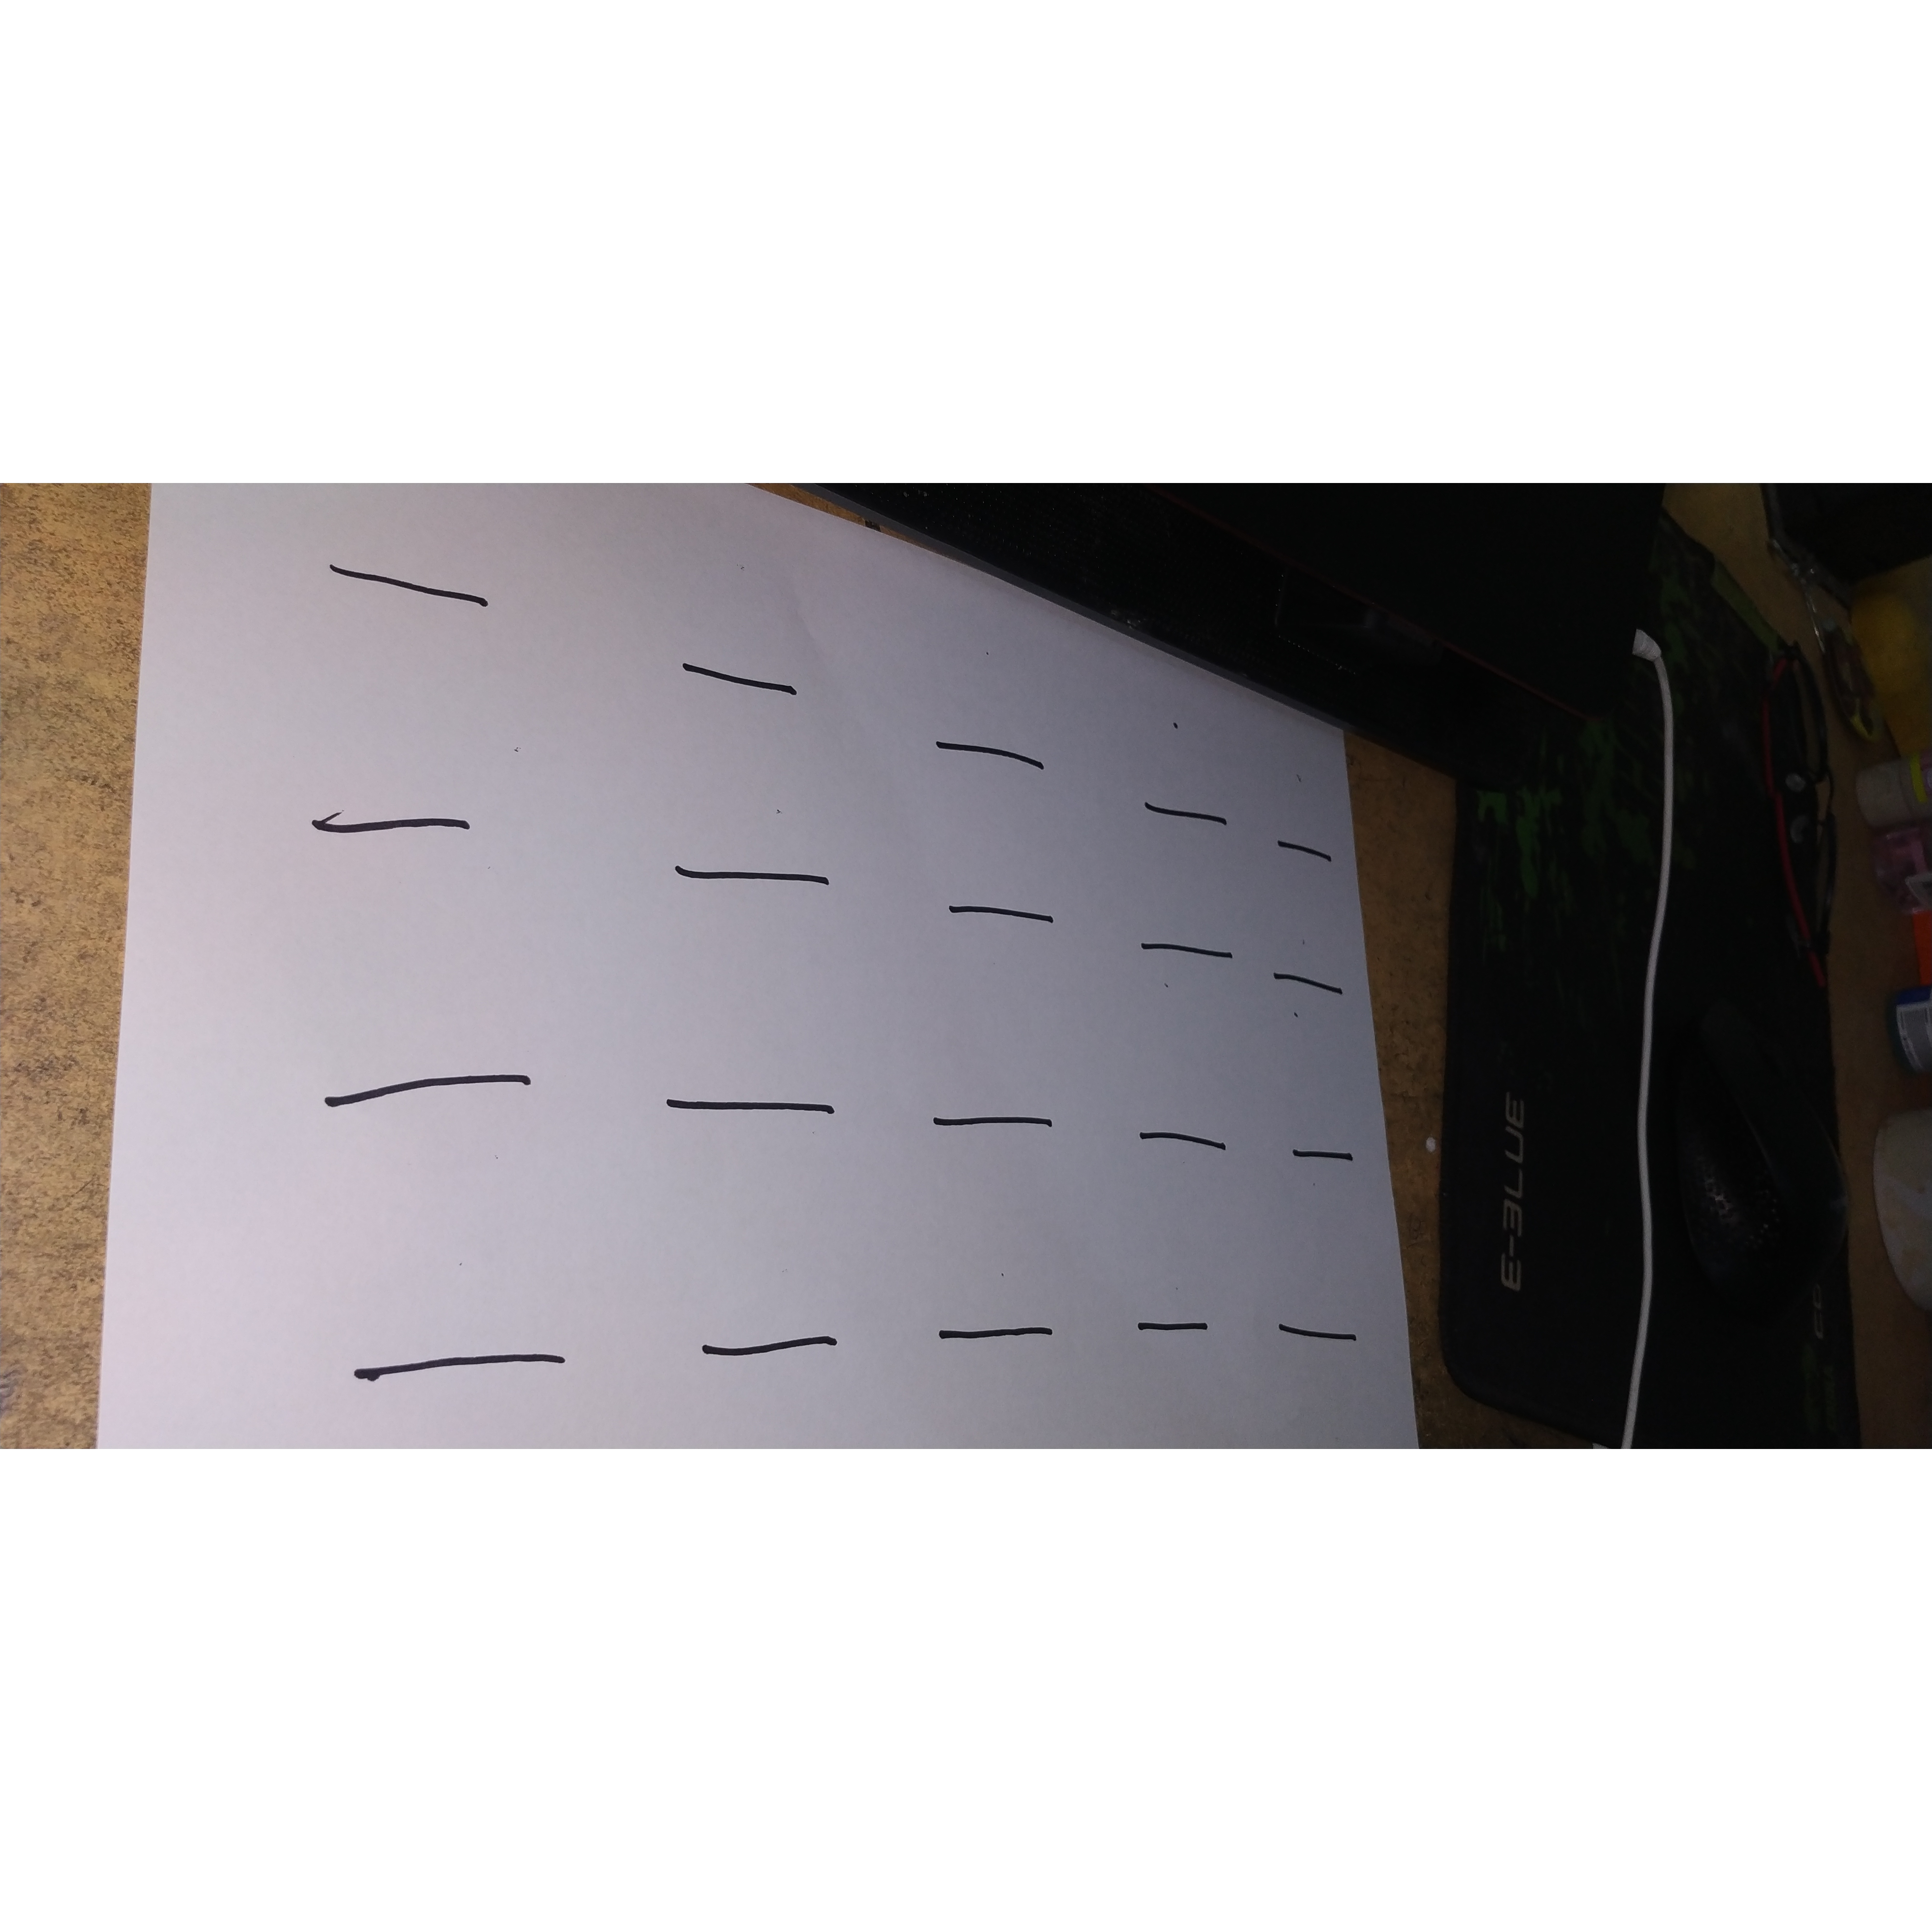min: (293, 1033, 578, 1147), (318, 1302, 623, 1401), (268, 758, 505, 874), (307, 521, 522, 640), (623, 823, 862, 924), (671, 1295, 883, 1384), (902, 1067, 1091, 1165), (637, 1067, 860, 1149), (667, 632, 826, 729), (916, 703, 1072, 802), (1124, 773, 1265, 861), (1120, 1096, 1250, 1184), (931, 884, 1084, 949), (916, 1298, 1078, 1354), (1263, 945, 1360, 1031), (1124, 920, 1246, 983), (1271, 1302, 1374, 1376), (1271, 800, 1345, 888), (1282, 1123, 1372, 1186), (1124, 1304, 1229, 1348)
